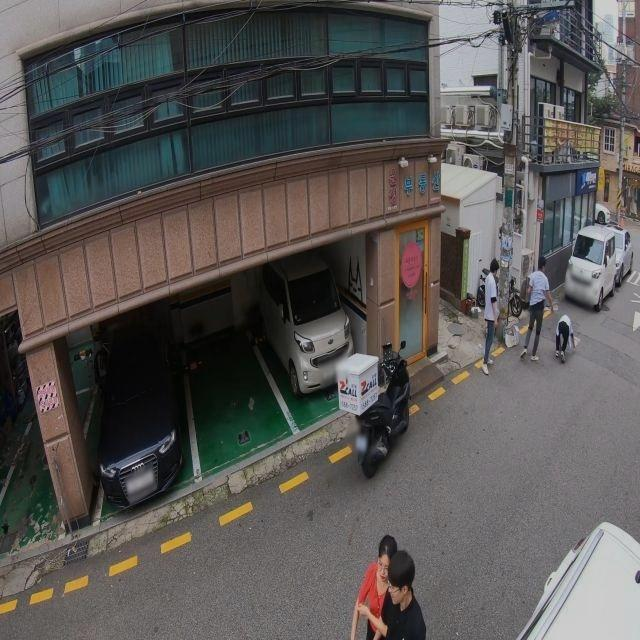fight: (521, 258, 576, 362)
non-fight: (345, 535, 397, 639), (478, 258, 503, 374)
